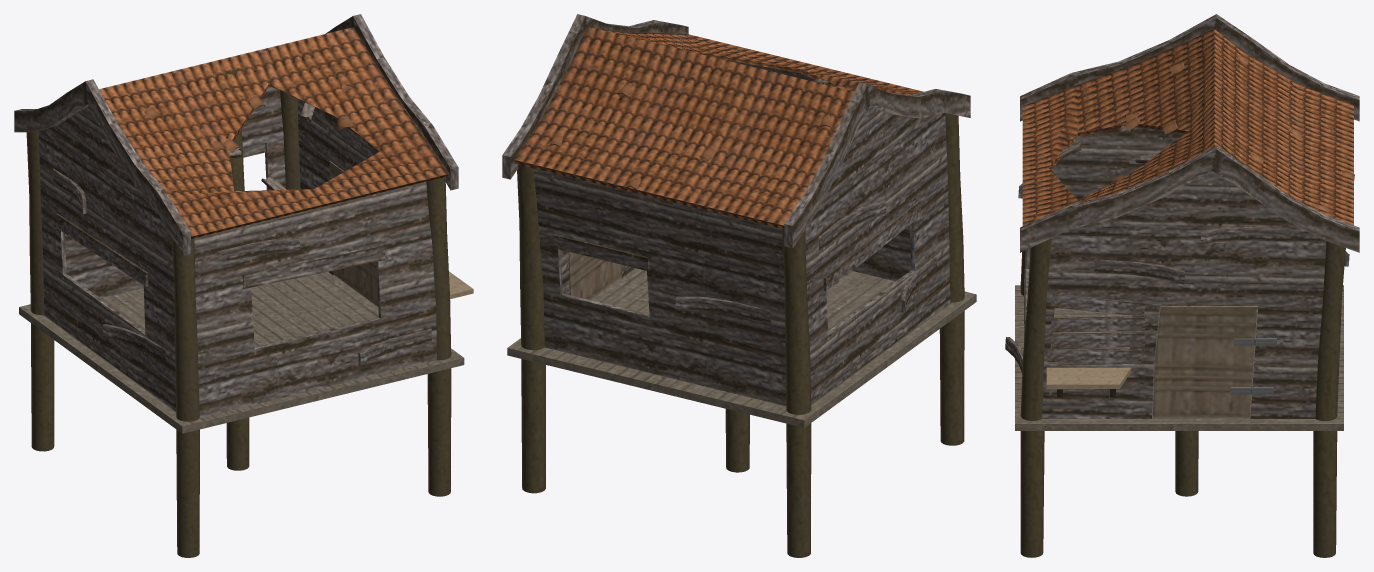
The model's file is fishing_hut.fbx.
3 views of the same model, side by side, from view 1: azimuth 30°, elevation 25°; view 2: azimuth 150°, elevation 25°; view 3: azimuth 270°, elevation 25° (orthographic). The views are drawn at different scales.
Parts seen in each view (by area): view 1: fishing_hut; view 2: fishing_hut; view 3: fishing_hut.
Part boxes in pixels (x1,y1,x2,y2): fishing_hut: (14, 14, 473, 557); fishing_hut: (502, 14, 976, 557); fishing_hut: (1005, 14, 1359, 557).
Bounding box in the file's own units: 779 × 967 × 758.
1 material, 1 textured.
